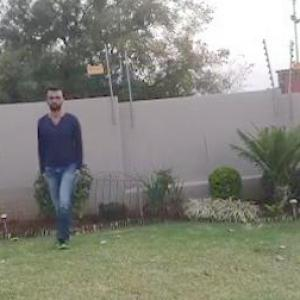follow: (33, 84, 90, 247)
